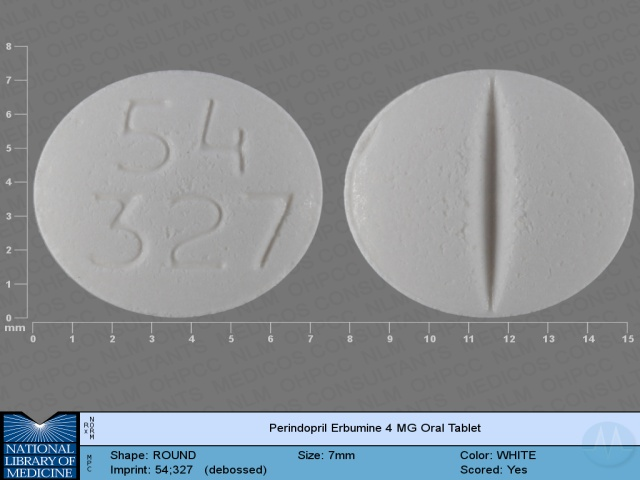2: (159, 192, 234, 273)
3: (83, 186, 149, 268)
4: (193, 91, 258, 184)
5: (110, 91, 174, 177)
7: (242, 188, 301, 273)
|: (474, 60, 509, 319)
